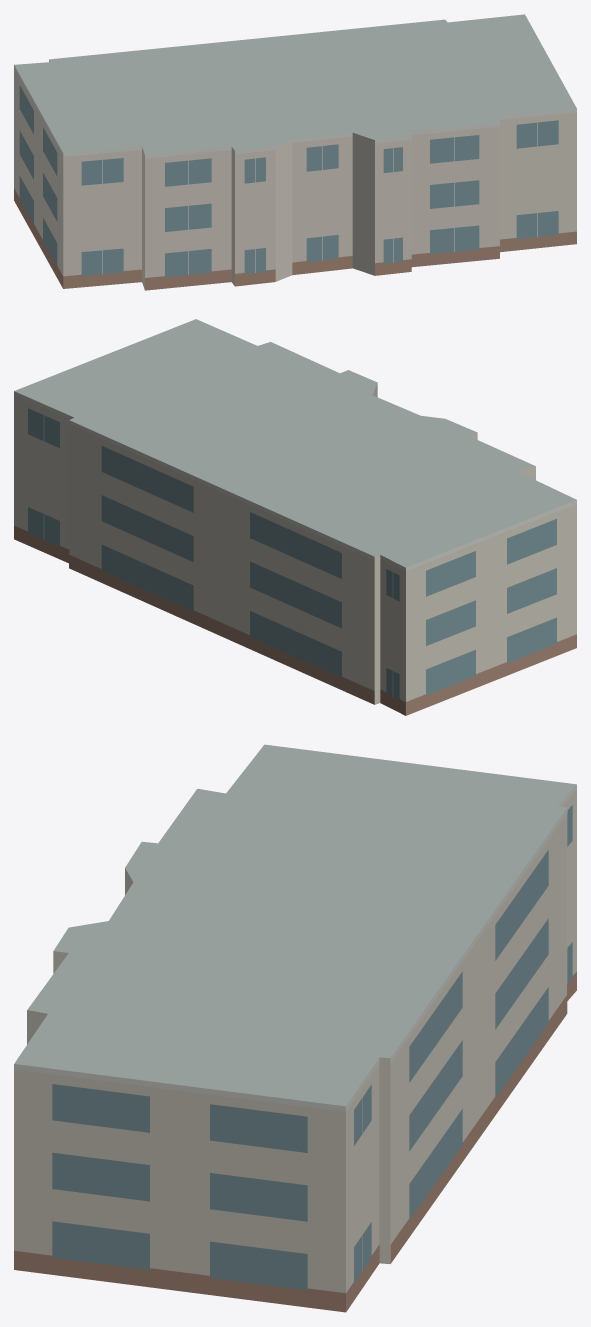
Rendered from survey-upis-32859674.glb.
The picture shows the model from 3 angles, top to bottom: view 1: azimuth 30°, elevation 25°; view 2: azimuth 150°, elevation 25°; view 3: azimuth 270°, elevation 25°; orthographic projection. The views are drawn at different scales.
Visible parts, largest first — view 1: survey-upis-32859674.tmp; view 2: survey-upis-32859674.tmp; view 3: survey-upis-32859674.tmp.
Part boxes in pixels (left/top/right/bottom): survey-upis-32859674.tmp: left=14, top=14, right=576, bottom=290; survey-upis-32859674.tmp: left=14, top=319, right=576, bottom=715; survey-upis-32859674.tmp: left=14, top=744, right=576, bottom=1312.
Size of the model in its own units: 34.48 by 9.15 by 22.66.
